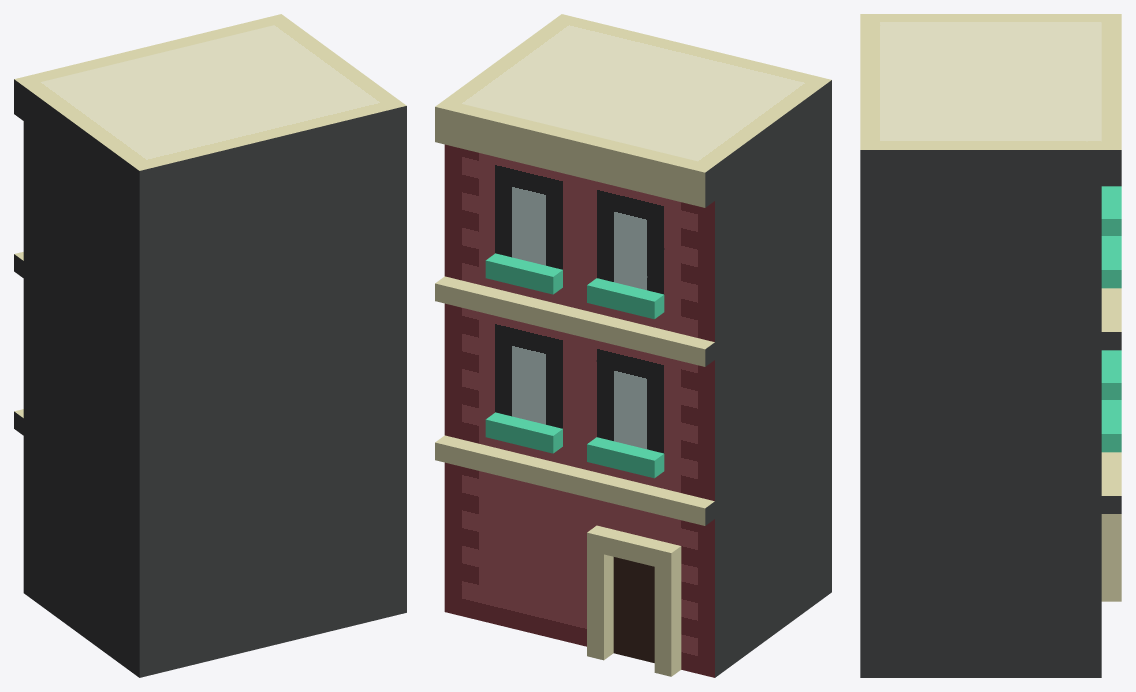
Rendered from FlexEngine Test.fbx.
3 renders of one model, left to right at view 1: azimuth 30°, elevation 25°; view 2: azimuth 150°, elevation 25°; view 3: azimuth 270°, elevation 25°, orthographic. The views are drawn at different scales.
Visible parts, largest first — view 1: cube, cube_2; view 2: cube, cube_2, cube_9, cube_10, cube_3, cube_4, cube_1, cube_6, cube_7, cube_8, cube_5; view 3: cube, cube_2, cube_4, cube_10, cube_9, cube_6, cube_7, cube_5, cube_8.
Part boxes in pixels (<box>): cube: <box>23,21,406,677</box>; cube_2: <box>14,14,290,120</box>; cube: <box>444,14,831,677</box>; cube_2: <box>435,99,714,207</box>; cube_9: <box>435,435,714,525</box>; cube_10: <box>435,276,714,366</box>; cube_3: <box>654,564,681,676</box>; cube_4: <box>587,550,613,660</box>; cube_1: <box>587,525,681,570</box>; cube_6: <box>485,253,562,294</box>; cube_7: <box>485,412,562,453</box>; cube_8: <box>587,437,664,478</box>; cube_5: <box>587,278,664,319</box>; cube: <box>860,14,1101,677</box>; cube_2: <box>1101,14,1121,186</box>; cube_4: <box>1101,514,1121,601</box>; cube_10: <box>1101,288,1121,350</box>; cube_9: <box>1101,452,1121,513</box>; cube_6: <box>1101,236,1121,288</box>; cube_7: <box>1101,400,1121,452</box>; cube_5: <box>1101,186,1121,235</box>; cube_8: <box>1101,350,1121,399</box>.
Size of the model in its own units: 100 by 181 by 81.25.
Materials: 1 (1 with a texture image).
